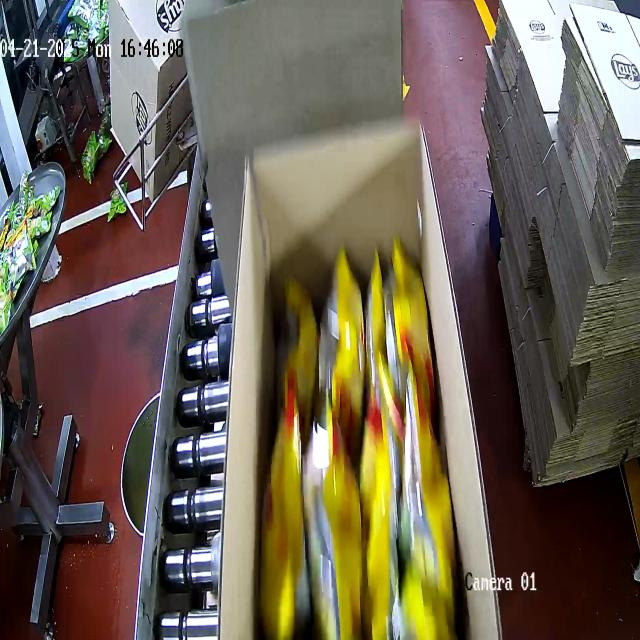SALTED: (264, 264, 461, 640)
